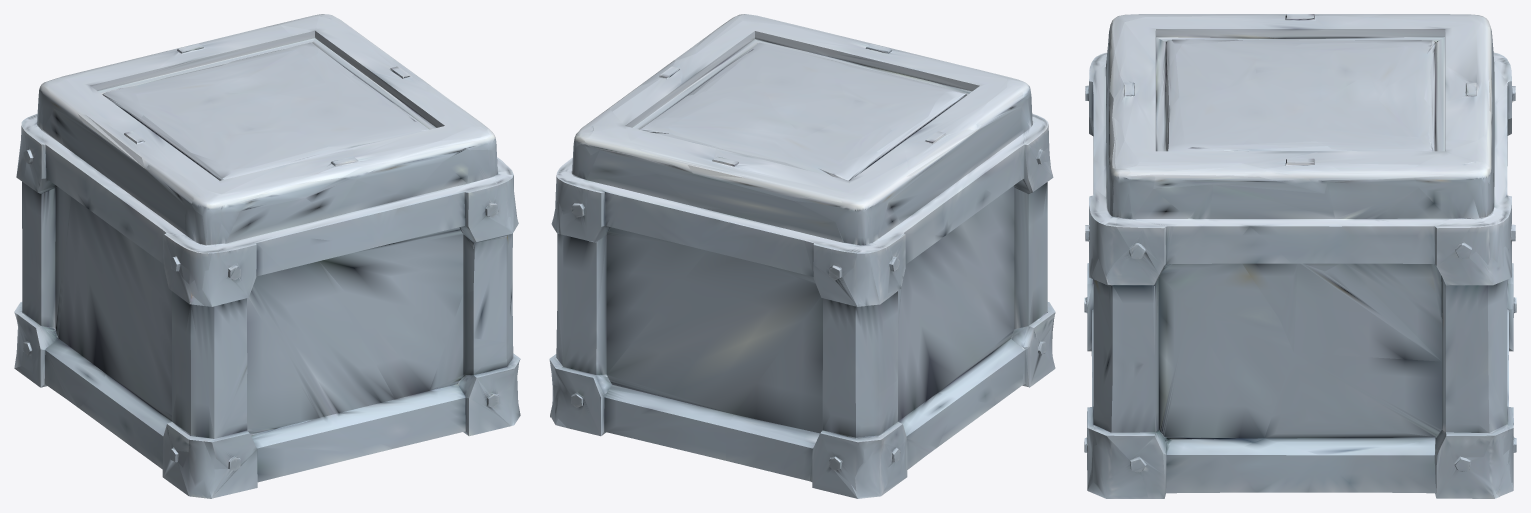
File: cover_half_snow_v1.glb
The picture shows the model from 3 angles, left to right: view 1: azimuth 30°, elevation 25°; view 2: azimuth 150°, elevation 25°; view 3: azimuth 270°, elevation 25°; orthographic projection. The views are drawn at different scales.
Bounding box in the file's own units: 0.9773 × 0.8 × 0.9773.
Materials: 1 (1 with a texture image).
